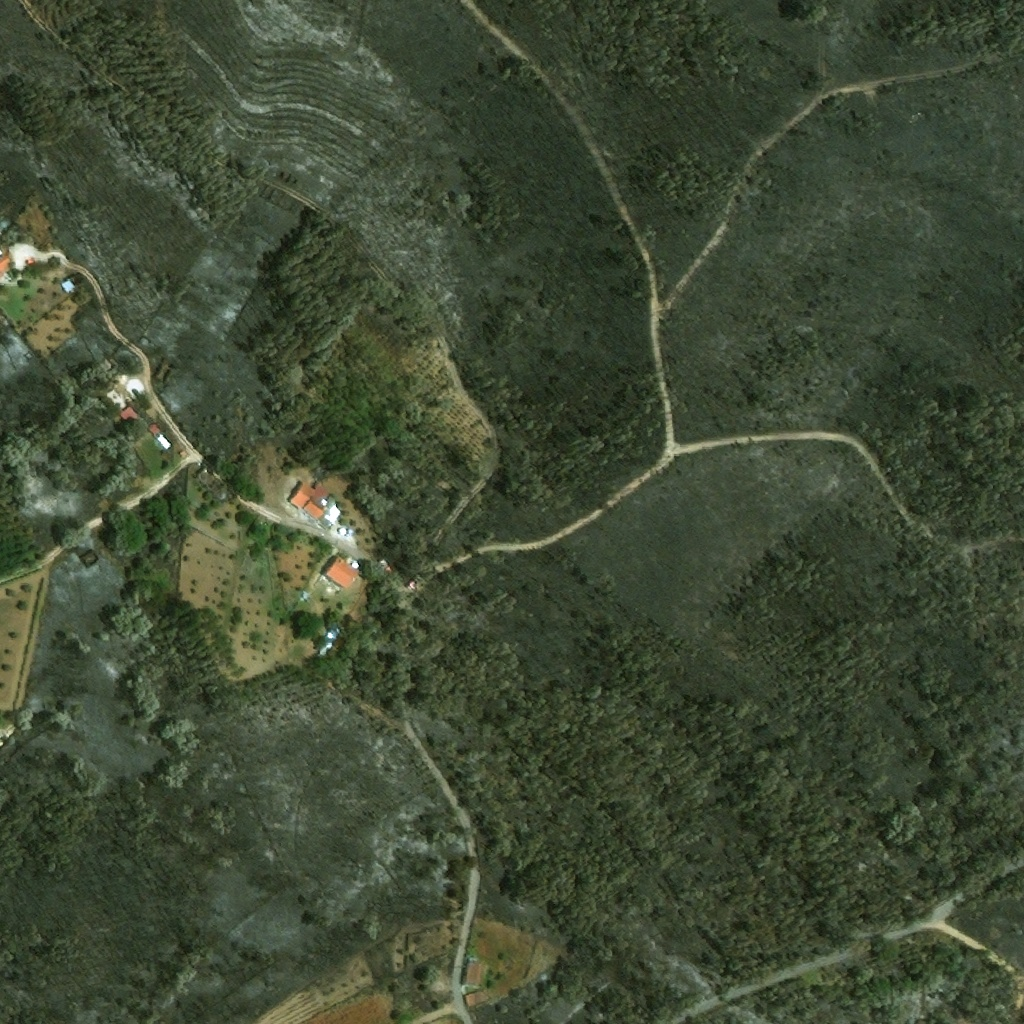0 no-damage: (287, 480, 343, 531), (320, 554, 360, 591), (460, 956, 489, 986), (0, 247, 11, 277), (60, 277, 78, 295), (178, 448, 188, 459), (25, 256, 36, 266), (351, 561, 360, 569)
1 minor-damage: (463, 987, 496, 1012), (315, 626, 340, 658)
2 major-damage: (123, 390, 146, 414)
3 destroyed: (154, 366, 169, 380), (124, 408, 138, 422)
